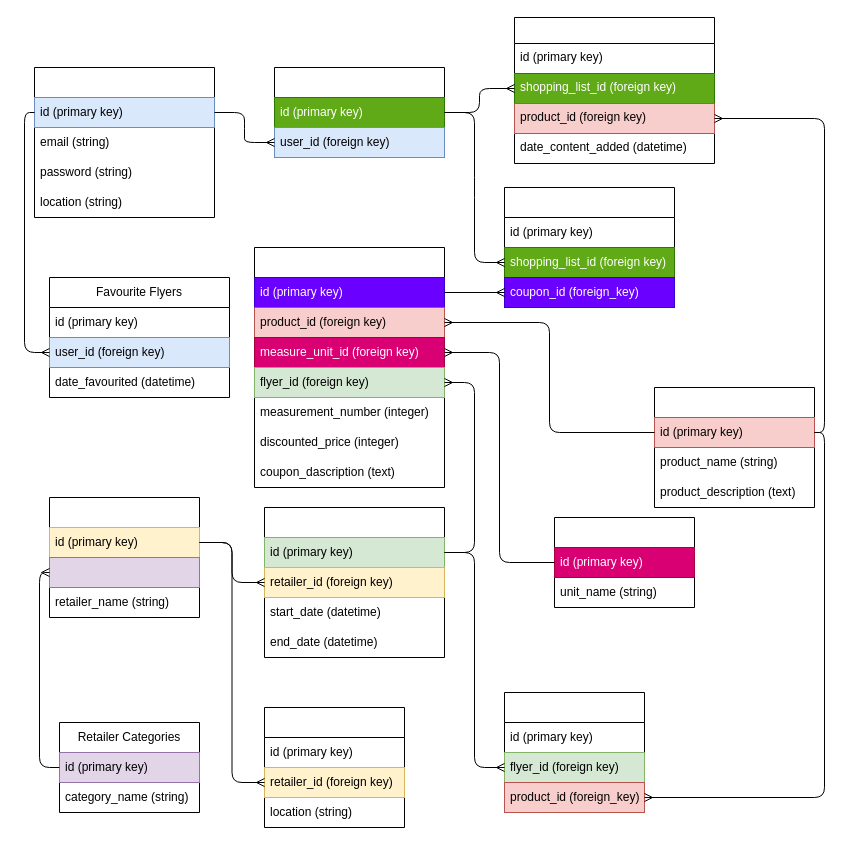
This 850x845 diagram has some shape labels left out. Here are the shapes that lost their labels. From the top down, the box of each, then its label:
(514, 16, 714, 164): Shopping Lists Contents
(274, 66, 444, 158): Shopping Lists
(34, 66, 214, 218): Users
(504, 186, 674, 308): Clipped Coupons
(254, 246, 444, 488): Coupons
(654, 386, 814, 508): Products
(48, 496, 200, 618): Retailers
(48, 556, 200, 588): category_id (foreign key)
(554, 516, 694, 608): Measurement Units
(264, 506, 444, 658): Flyers
(264, 706, 404, 828): Stores
(504, 692, 644, 812): Flyers Contents
